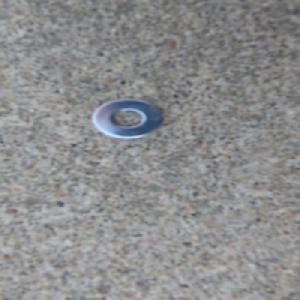Washer: (85, 94, 166, 142)
